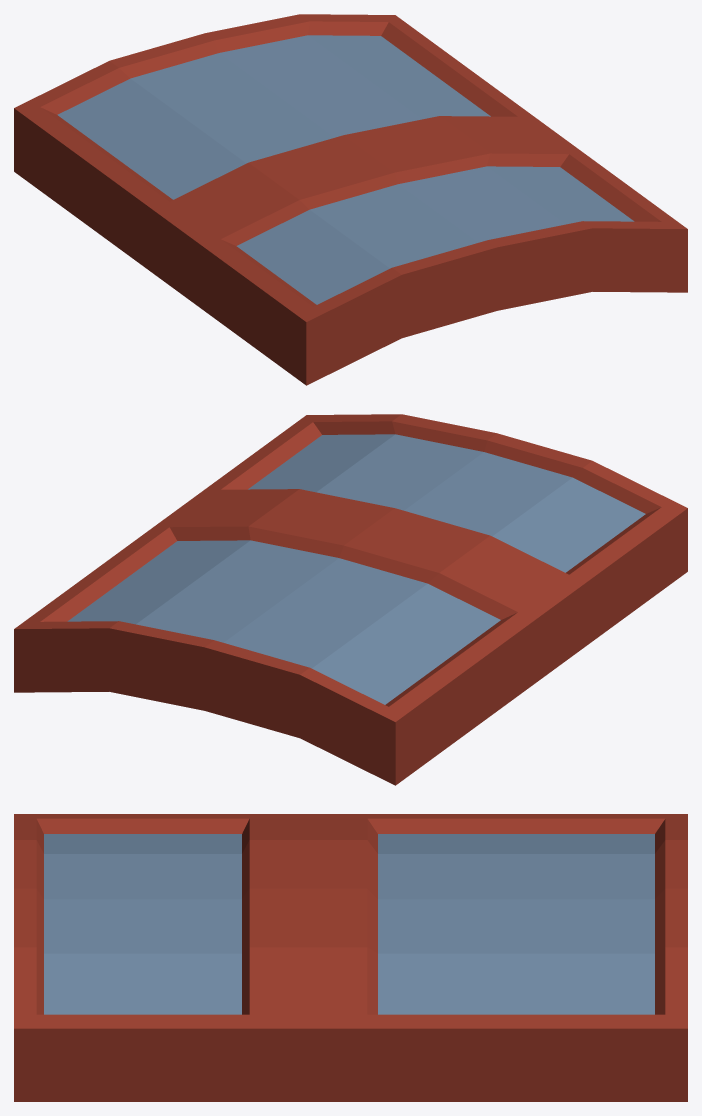
The model's file is Mothership_02_Roof_Hatch_Red.fbx.
The picture shows the model from 3 angles, top to bottom: view 1: azimuth 30°, elevation 25°; view 2: azimuth 150°, elevation 25°; view 3: azimuth 270°, elevation 25°; orthographic projection. The views are drawn at different scales.
Parts seen in each view (by area): view 1: Mothership_02_Roof_Hatch_Red; view 2: Mothership_02_Roof_Hatch_Red; view 3: Mothership_02_Roof_Hatch_Red.
Boxes of the visible parts, x1,y1,x2,y2 form: Mothership_02_Roof_Hatch_Red: (14,14,687,385); Mothership_02_Roof_Hatch_Red: (14,414,687,785); Mothership_02_Roof_Hatch_Red: (14,814,687,1101).
Bounding box in the file's own units: 692 × 159 × 919.
Materials: 2 (2 with a texture image).
